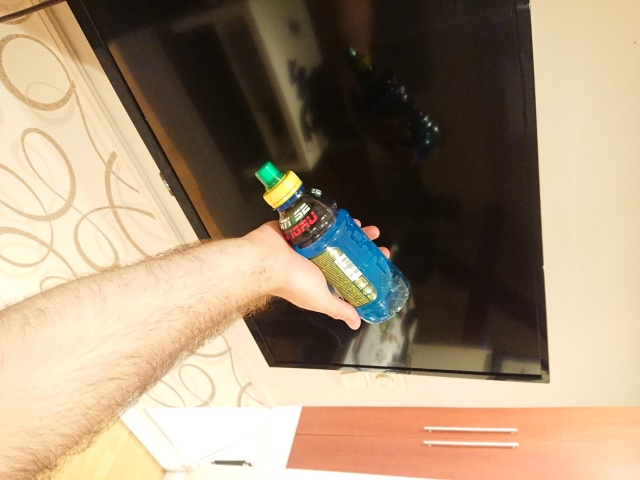Vindi Iso Sport Forest Strawberries 500mL: (252, 157, 413, 325)
